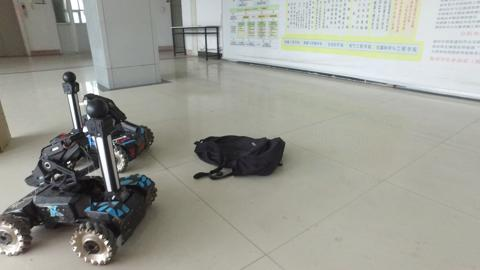chariot: (2, 95, 167, 255)
